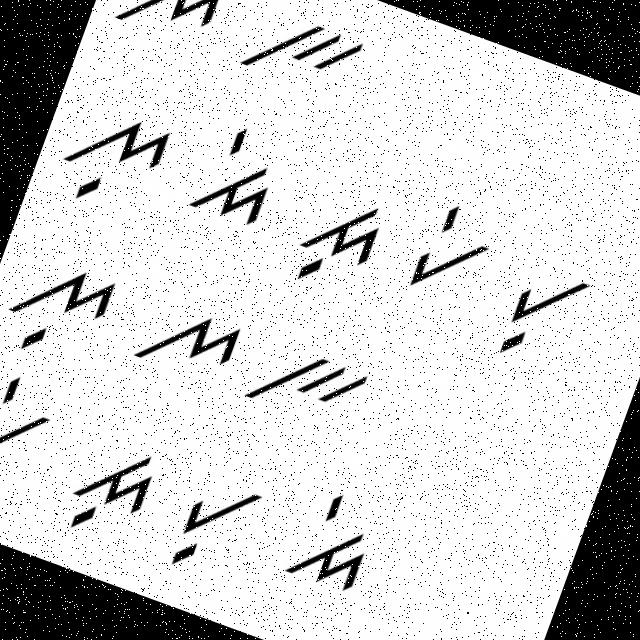de: (184, 114, 298, 245), (280, 480, 394, 610)
du: (56, 416, 173, 555), (284, 181, 394, 304)
na: (121, 283, 252, 409)
ne: (113, 0, 241, 53)
nu: (47, 83, 188, 229), (0, 239, 129, 378)
pe: (402, 196, 504, 313), (0, 361, 68, 481)
pu: (154, 462, 270, 590), (492, 254, 600, 386)
